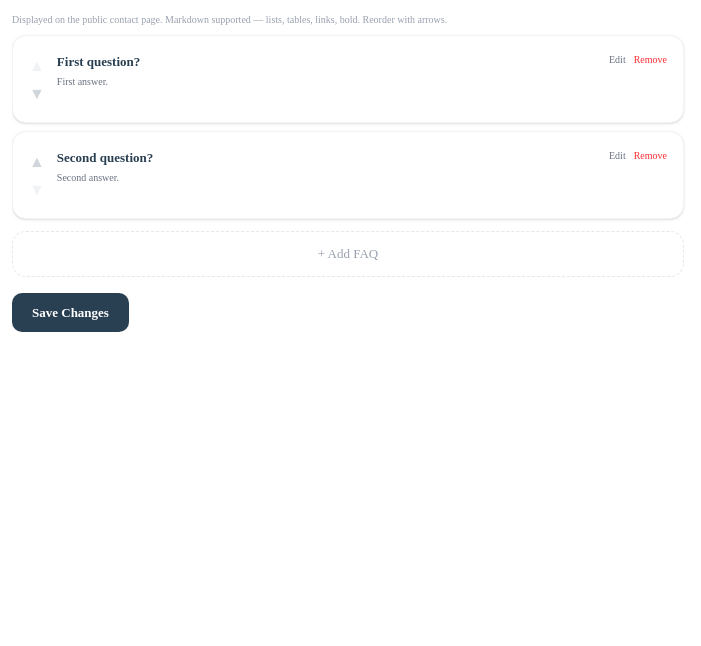
Scenario: FaqsTab › saves an edited question and answer back to the list
Click the button "Edit" in the row of "First question?": (617, 60) [609, 52, 626, 67]
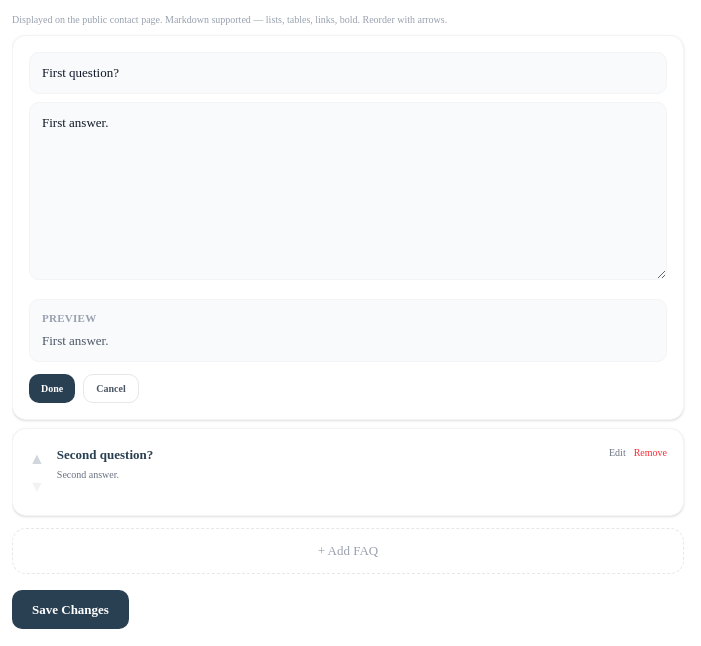
Replace the text in the field with placeholder "Question" with "Updated question?": (348, 73) [29, 52, 667, 94]
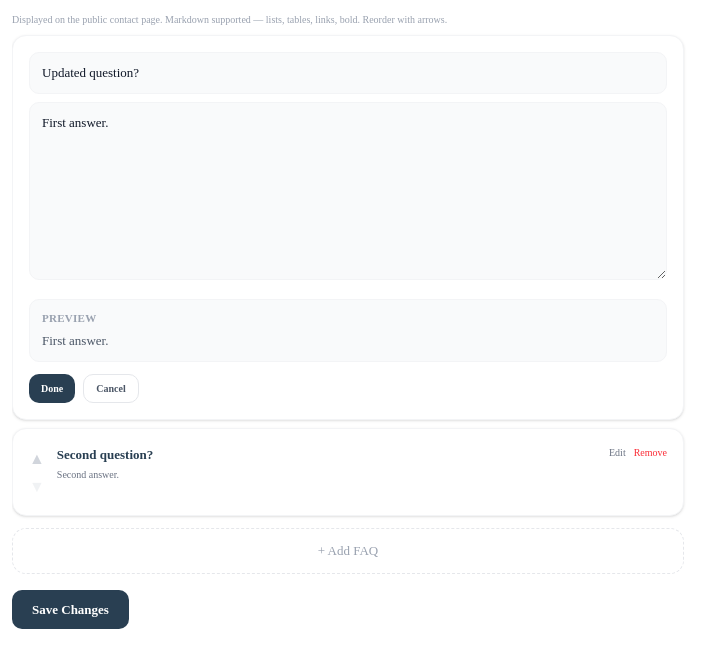
Replace the text in the text box with placeholder "Answer (markdown supported)" with "Updated answer.": (348, 190) [29, 102, 667, 280]
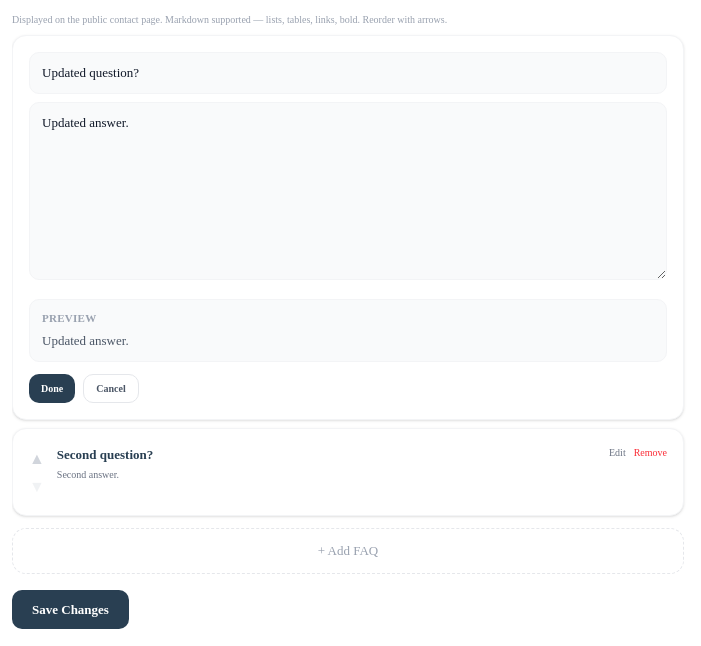
Click the button "Done": (52, 389) [29, 374, 75, 403]
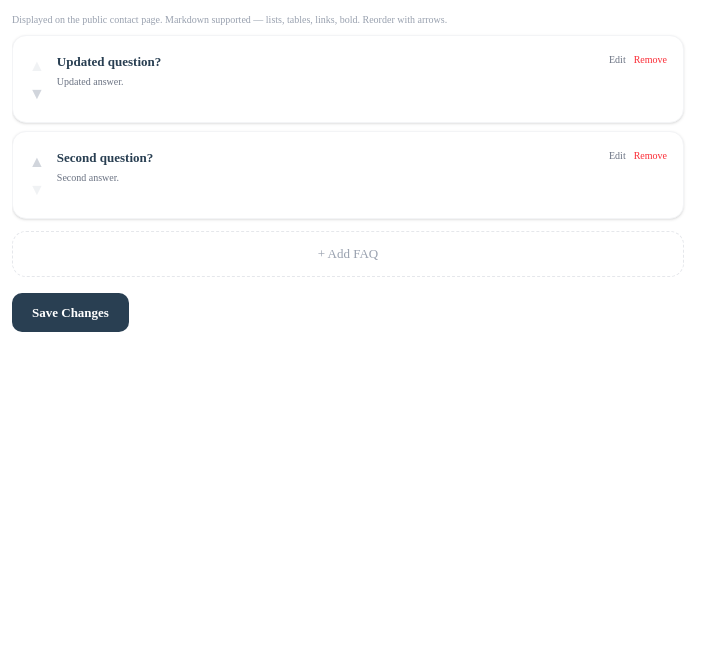
Expected: the text "Updated question?" is shown, [57, 54, 161, 69]
